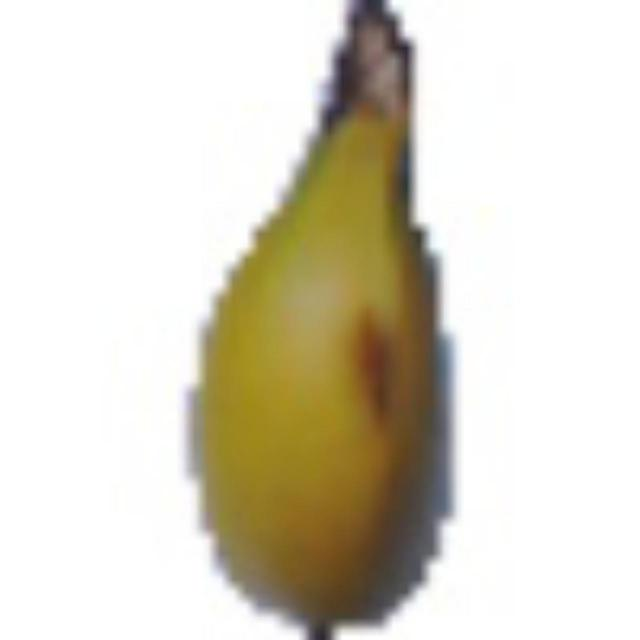banana: (190, 0, 464, 621)
